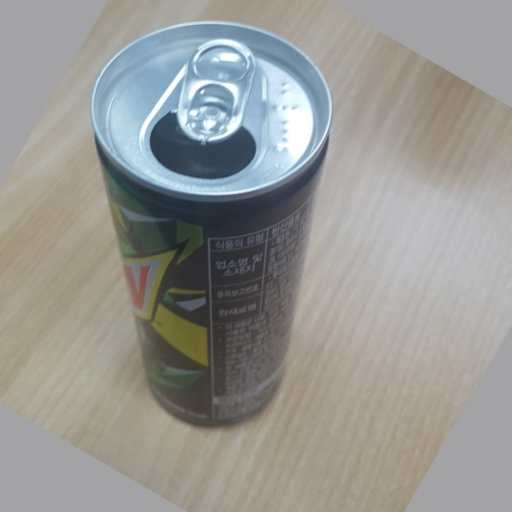Metal_0: (92, 19, 334, 430)
